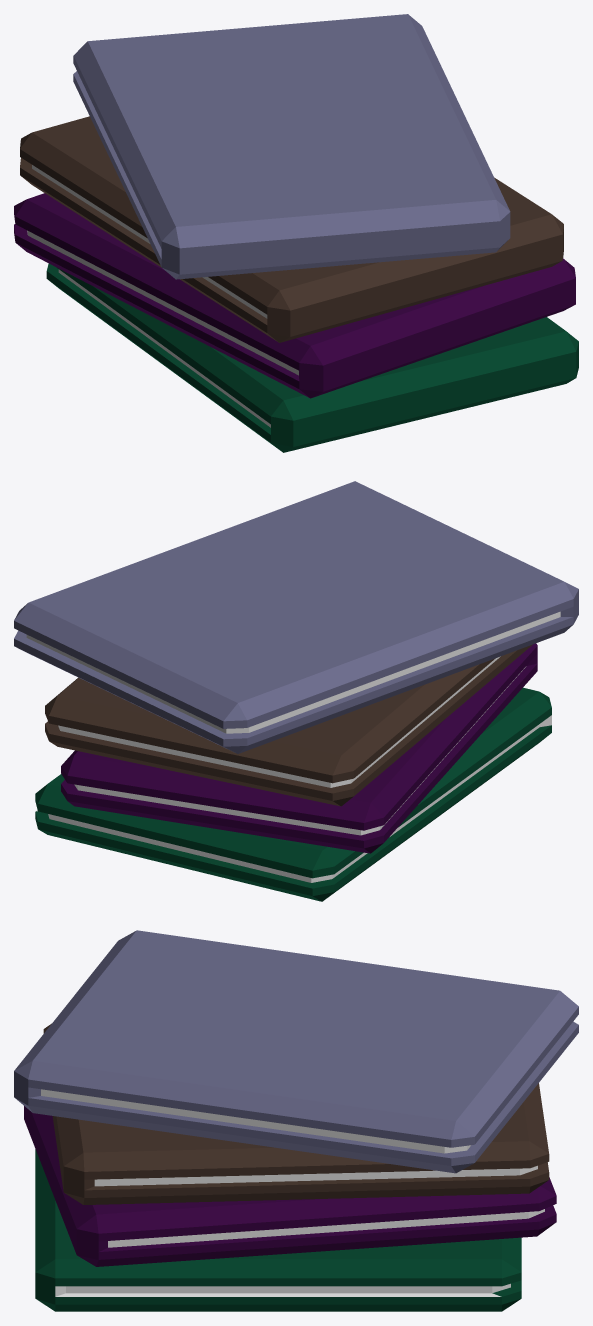
The model's file is BookStack.fbx.
The picture shows the model from 3 angles, top to bottom: view 1: azimuth 30°, elevation 25°; view 2: azimuth 150°, elevation 25°; view 3: azimuth 270°, elevation 25°; orthographic projection. The views are drawn at different scales.
Parts seen in each view (by area): view 1: pCube4, pCube2, pCube3, pCube1; view 2: pCube4, pCube3, pCube2, pCube1; view 3: pCube4, pCube1, pCube3, pCube2.
Boxes of the visible parts, <box> form: pCube4: <box>73,14,510,279</box>; pCube2: <box>14,193,575,398</box>; pCube3: <box>20,116,563,342</box>; pCube1: <box>46,263,578,452</box>; pCube4: <box>14,481,578,753</box>; pCube3: <box>45,644,532,806</box>; pCube2: <box>61,643,537,853</box>; pCube1: <box>35,687,551,901</box>; pCube4: <box>14,930,578,1173</box>; pCube1: <box>35,1149,521,1311</box>; pCube3: <box>43,1023,549,1204</box>; pCube2: <box>24,1106,556,1266</box>.
Bounding box in the file's own units: 1.35 × 0.6582 × 1.59.
